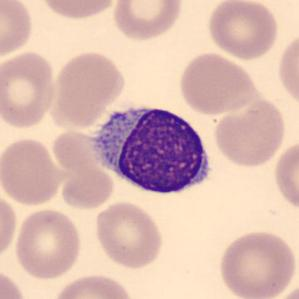Lymphocyte: (86, 96, 218, 200)
RBC: (47, 49, 127, 128), (215, 227, 296, 299), (211, 96, 288, 169), (12, 206, 84, 281), (176, 50, 258, 115), (92, 200, 165, 270), (0, 49, 59, 130), (0, 134, 65, 207), (205, 0, 281, 61), (110, 0, 186, 43), (57, 164, 116, 211), (48, 271, 136, 299), (0, 0, 36, 61), (271, 138, 299, 214), (35, 0, 120, 21), (276, 29, 298, 110), (0, 190, 18, 263), (0, 266, 29, 299), (273, 280, 299, 299)
